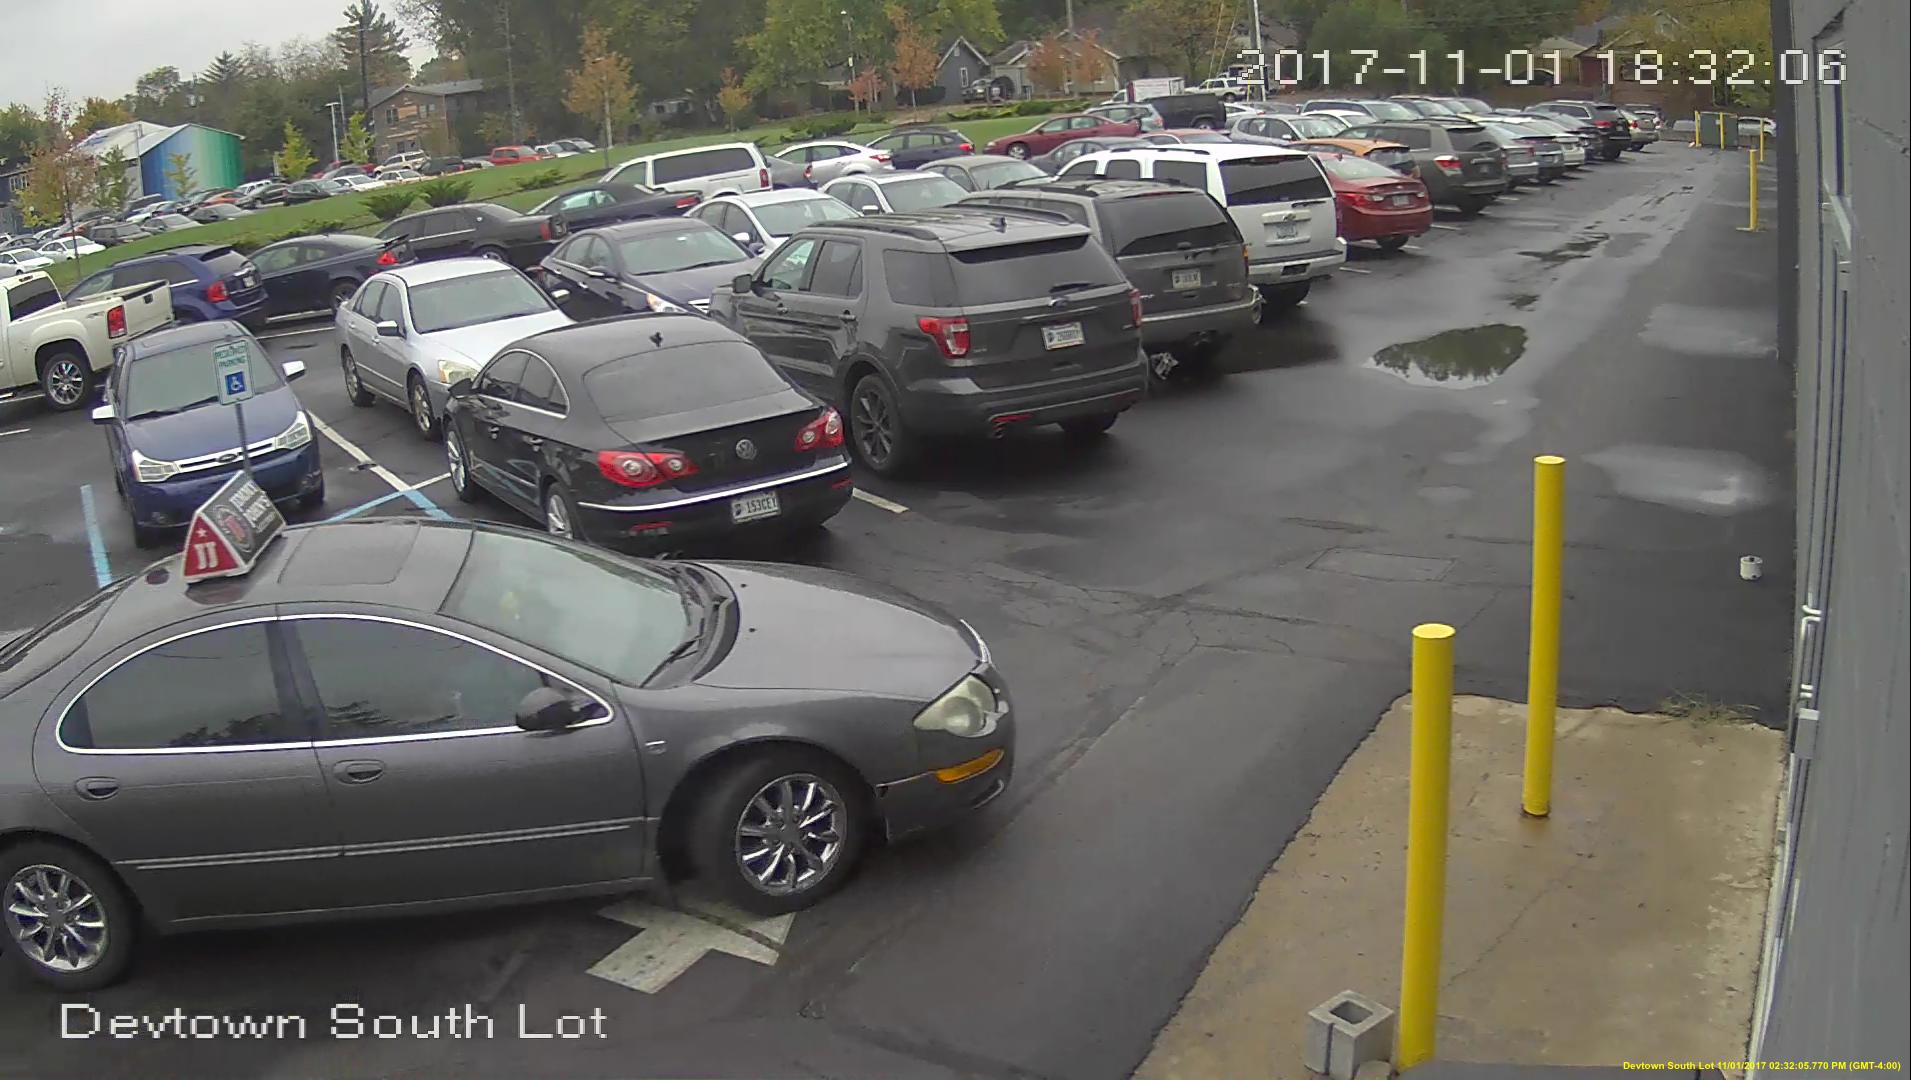jimmy_johns: (177, 465, 283, 589)
